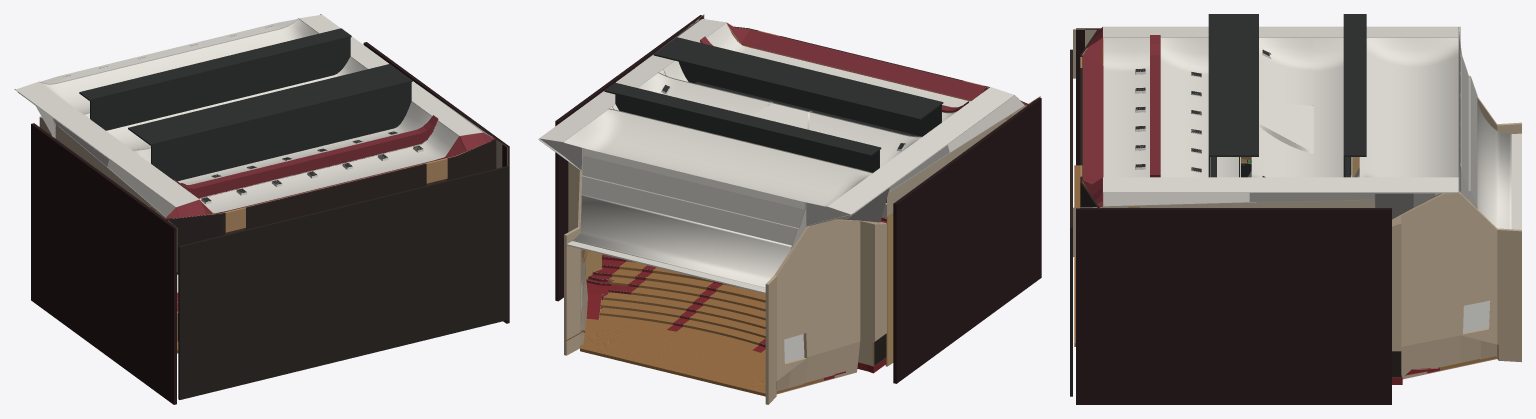
File: hall.glb
3 renders of one model, left to right at view 1: azimuth 30°, elevation 25°; view 2: azimuth 150°, elevation 25°; view 3: azimuth 270°, elevation 25°, orthographic. The views are drawn at different scales.
Parts seen in each view (by area): view 1: bake_ceiling, bake_lowroom, bake_walls, bake_hall_detail; view 2: bake_ceiling, bake_walls, bake_floor1, bake_carpet, bake_hall_detail, bake_trim, bake_scrim; view 3: bake_walls, bake_ceiling, bake_lowroom, bake_hall_detail, bake_scrim, bake_floor1.
Boxes of the visible parts, x1,y1,x2,y2 form: bake_ceiling: (14, 14, 495, 219); bake_lowroom: (177, 166, 508, 399); bake_walls: (31, 42, 509, 404); bake_hall_detail: (63, 26, 423, 204); bake_ceiling: (538, 19, 1027, 287); bake_walls: (555, 14, 1041, 404); bake_floor1: (580, 219, 848, 396); bake_carpet: (586, 218, 886, 380); bake_hall_detail: (582, 85, 905, 209); bake_trim: (586, 217, 886, 362); bake_scrim: (581, 279, 804, 362); bake_walls: (1073, 28, 1521, 404); bake_ceiling: (1082, 14, 1511, 229); bake_lowroom: (1070, 49, 1072, 396); bake_hall_detail: (1135, 48, 1461, 177); bake_scrim: (1463, 300, 1490, 332); bake_floor1: (1074, 165, 1497, 370).
Bounding box in the file's own units: 29.86 × 17.64 × 31.45.
71 materials, 6 textured.
